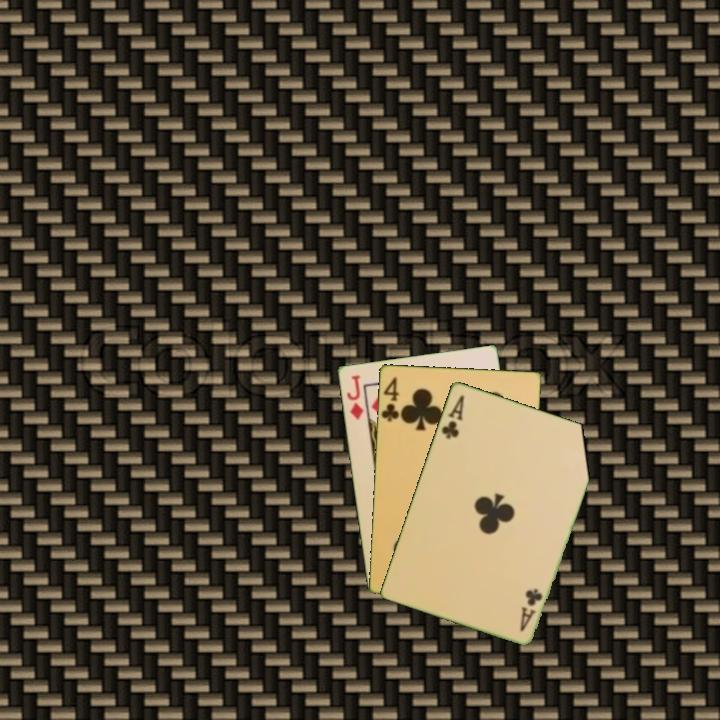4c: (378, 373, 402, 424)
Ac: (516, 585, 546, 634), (438, 391, 467, 441)
Jd: (343, 371, 366, 423)
